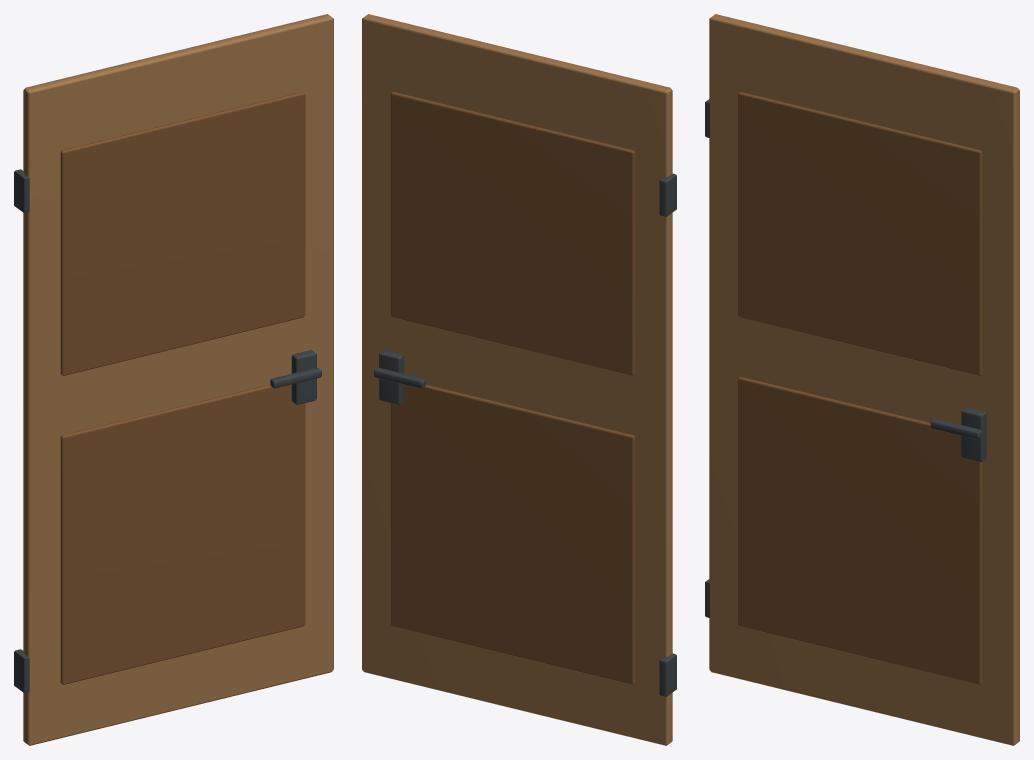
File: door_01.fbx
3 renders of one model, left to right at view 1: azimuth 30°, elevation 25°; view 2: azimuth 150°, elevation 25°; view 3: azimuth 330°, elevation 25°, orthographic.
Visible parts, largest first — view 1: Door_01_Leaf, Door_Panel.002, Door_Panel.003, Door_Handle_Base.001, Door_Hinge_Barrel, Door_Hinge_Barrel.001, Door_Handle_Lever.001; view 2: Door_01_Leaf, Door_Panel, Door_Panel.001, Door_Handle_Base, Door_Hinge_Barrel, Door_Hinge_Barrel.001, Door_Handle_Lever; view 3: Door_01_Leaf, Door_Panel.002, Door_Panel.003, Door_Handle_Base.001, Door_Handle_Lever.001.
Boxes of the visible parts, bbox=[...] form: Door_01_Leaf: bbox=[23, 14, 333, 745]; Door_Panel.002: bbox=[60, 384, 305, 684]; Door_Panel.003: bbox=[60, 92, 305, 375]; Door_Handle_Base.001: bbox=[291, 350, 316, 404]; Door_Hinge_Barrel: bbox=[14, 649, 29, 693]; Door_Hinge_Barrel.001: bbox=[14, 169, 29, 213]; Door_Handle_Lever.001: bbox=[270, 367, 321, 388]; Door_01_Leaf: bbox=[362, 14, 672, 745]; Door_Panel: bbox=[390, 384, 635, 684]; Door_Panel.001: bbox=[390, 92, 635, 375]; Door_Handle_Base: bbox=[379, 350, 404, 404]; Door_Hinge_Barrel: bbox=[659, 653, 676, 696]; Door_Hinge_Barrel.001: bbox=[659, 173, 676, 216]; Door_Handle_Lever: bbox=[374, 367, 425, 388]; Door_01_Leaf: bbox=[709, 14, 1019, 745]; Door_Panel.002: bbox=[738, 377, 982, 684]; Door_Panel.003: bbox=[738, 92, 982, 375]; Door_Handle_Base.001: bbox=[961, 407, 986, 462]; Door_Handle_Lever.001: bbox=[930, 418, 981, 439].
Bounding box in the file's own units: 1.08 × 2.18 × 0.183.
